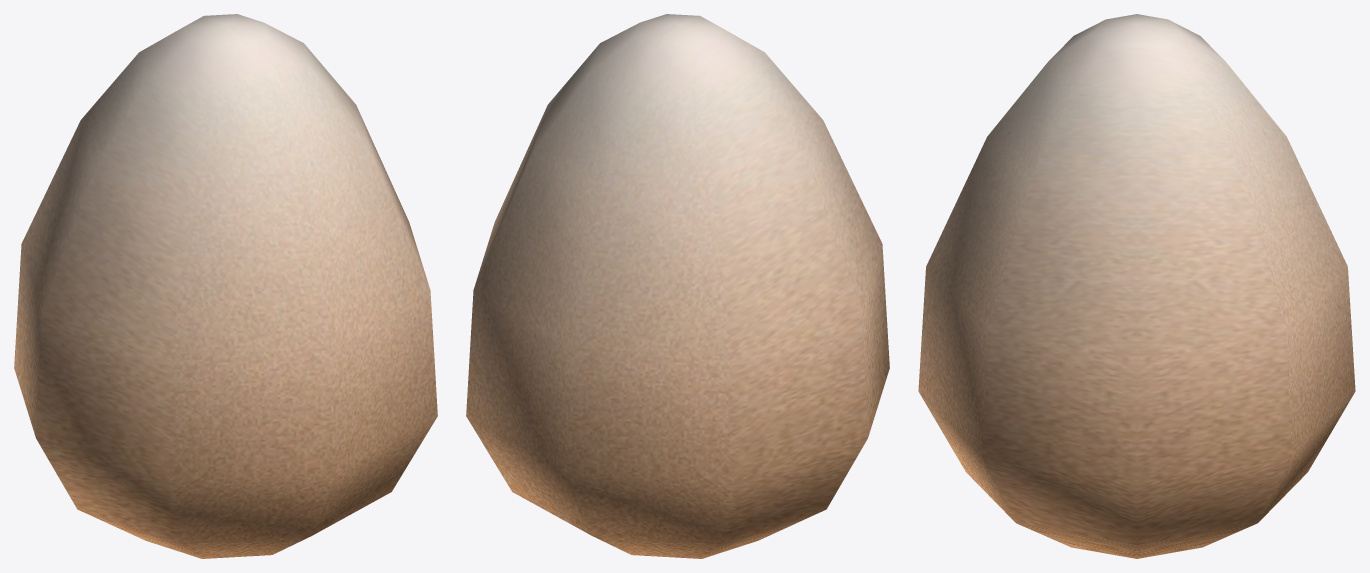
File: BirdEgg.fbx
3 renders of one model, left to right at view 1: azimuth 30°, elevation 25°; view 2: azimuth 150°, elevation 25°; view 3: azimuth 270°, elevation 25°, orthographic.
Parts seen in each view (by area): view 1: Bushlime; view 2: Bushlime; view 3: Bushlime.
Boxes of the visible parts, <box> form: Bushlime: <box>14,14,437,558</box>; Bushlime: <box>466,14,889,558</box>; Bushlime: <box>918,14,1355,558</box>.
Bounding box in the file's own units: 0.4089 × 0.5283 × 0.4089.
